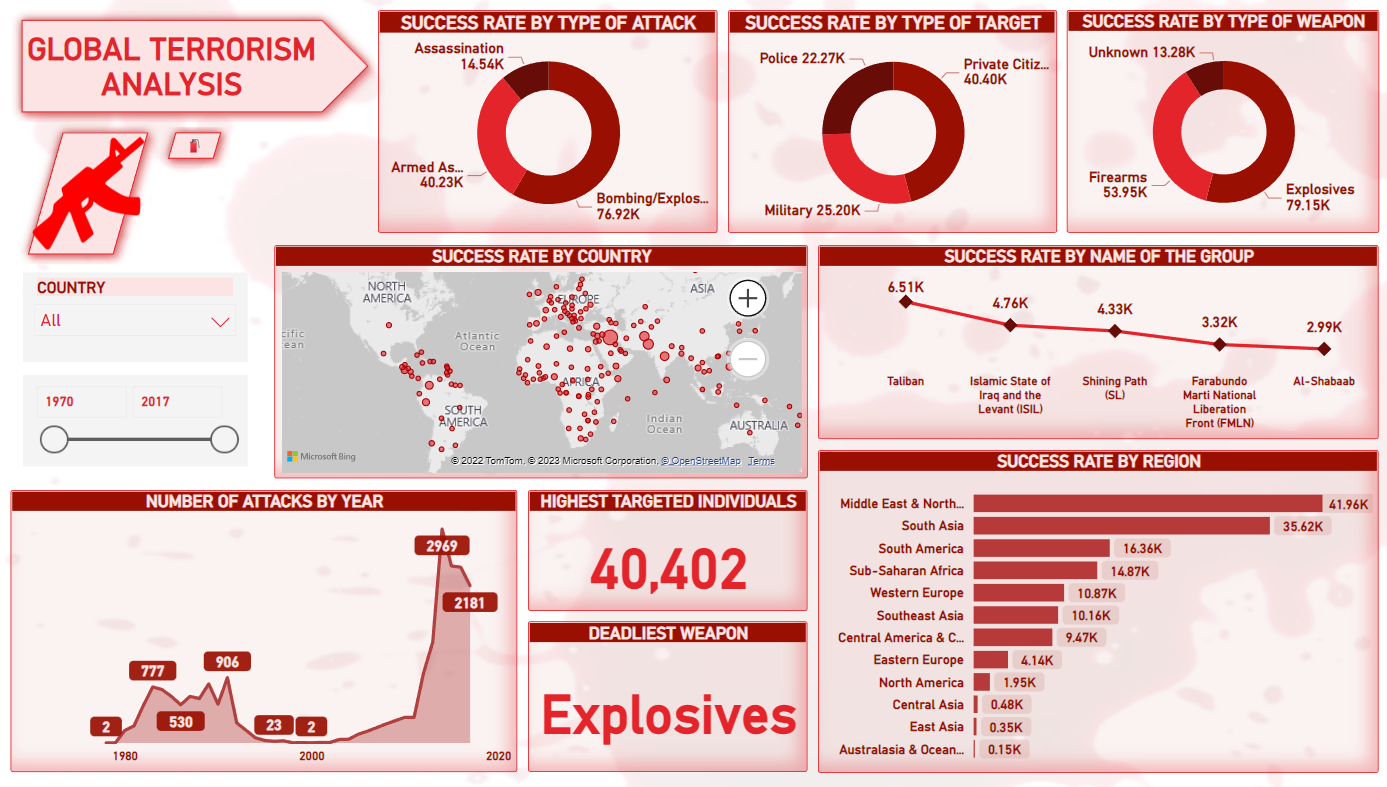

Layout of this report page (visuals, bound fields, positions):
{"tool":"powerbi","page":{"name":"Page 1","canvas":[1280,720],"ordinal":0},"visuals":[{"type":"donutChart","title":"SUCCESS RATE BY TYPE OF ATTACK","fields":{"Category":["Global Terrorism Data - Final.Type of Attack"],"Y":["Sum(Global Terrorism Data - Final.Success Rate)"]},"box":[348.8,9.6,311.8,204.6],"z":0},{"type":"donutChart","title":"SUCCESS RATE BY TYPE OF TARGET","fields":{"Y":["Sum(Global Terrorism Data - Final.Success Rate)"],"Category":["Global Terrorism Data - Final.Type of Target"]},"box":[670.2,9.6,302.1,204.6],"z":1},{"type":"donutChart","title":"SUCCESS RATE BY TYPE OF WEAPON","fields":{"Y":["Sum(Global Terrorism Data - Final.Success Rate)"],"Category":["Global Terrorism Data - Final.Weapon Type"]},"box":[982,9.6,287,204.6],"z":2},{"type":"map","title":"SUCCESS RATE BY COUNTRY","fields":{"Size":["Sum(Global Terrorism Data - Final.Success Rate)"],"Category":["Global Terrorism Data - Final.Country"]},"box":[254.1,225.2,490.3,214.2],"z":3},{"type":"slicer","fields":{"Values":["Global Terrorism Data - Final.Country"]},"box":[23.3,250,206,82.4],"z":4},{"type":"shape","box":[17.9,112.6,129.1,130.5],"z":6},{"type":"shape","box":[147,112.6,67.3,42.6],"z":7},{"type":"shape","box":[12.4,9.6,336.5,103],"z":8},{"type":"clusteredBarChart","title":"SUCCESS RATE BY REGION","fields":{"Y":["Sum(Global Terrorism Data - Final.Success Rate)"],"Category":["Global Terrorism Data - Final.Region"]},"box":[754,413.4,515,296.7],"z":9},{"type":"lineChart","title":"SUCCESS RATE BY NAME OF THE GROUP","fields":{"Y":["Sum(Global Terrorism Data - Final.Success Rate)"],"Category":["Global Terrorism Data - Final.Group Name"]},"box":[754,225.2,515,178.5],"z":10},{"type":"slicer","fields":{"Values":["Global Terrorism Data - Final.Year"]},"box":[23.3,344.7,206,83.8],"z":11},{"type":"areaChart","title":"NUMBER OF ATTACKS BY YEAR","fields":{"Category":["Global Terrorism Data - Final.Year"],"Y":["CountNonNull(Global Terrorism Data - Final.Type of Attack)"]},"box":[11,450.5,465.6,259.6],"z":12},{"type":"card","title":"HIGHEST TARGETED INDIVIDUALS","fields":{"Values":["CountNonNull(Global Terrorism Data - Final.Type of Target)"]},"box":[487.6,450.5,256.8,111.2],"z":13},{"type":"card","title":"DEADLIEST WEAPON ","fields":{"Values":["Min(Global Terrorism Data - Final.Weapon Type)"]},"box":[487.6,571.3,256.8,138.7],"z":14},{"type":"image","box":[167.6,112.6,24.7,42.6],"z":15},{"type":"image","box":[26.1,120.9,114,114],"z":16}]}

Visuals, with their boxes in screenshot pixels (x1, y1, x2, y2), scaled from the page's 1280x720 canvas onto the 1387x787 screenshot:
"SUCCESS RATE BY TYPE OF ATTACK" donutChart: Rect(378, 10, 716, 234)
"SUCCESS RATE BY TYPE OF TARGET" donutChart: Rect(726, 10, 1054, 234)
"SUCCESS RATE BY TYPE OF WEAPON" donutChart: Rect(1064, 10, 1375, 234)
"SUCCESS RATE BY COUNTRY" map: Rect(275, 246, 807, 480)
slicer - Global Terrorism Data - Final.Country: Rect(25, 273, 248, 363)
shape: Rect(19, 123, 159, 266)
shape: Rect(159, 123, 232, 170)
shape: Rect(13, 10, 378, 123)
"SUCCESS RATE BY REGION" clusteredBarChart: Rect(817, 452, 1375, 776)
"SUCCESS RATE BY NAME OF THE GROUP" lineChart: Rect(817, 246, 1375, 441)
slicer - Global Terrorism Data - Final.Year: Rect(25, 377, 248, 468)
"NUMBER OF ATTACKS BY YEAR" areaChart: Rect(12, 492, 516, 776)
"HIGHEST TARGETED INDIVIDUALS" card: Rect(528, 492, 807, 614)
"DEADLIEST WEAPON " card: Rect(528, 624, 807, 776)
image: Rect(182, 123, 208, 170)
image: Rect(28, 132, 152, 257)
